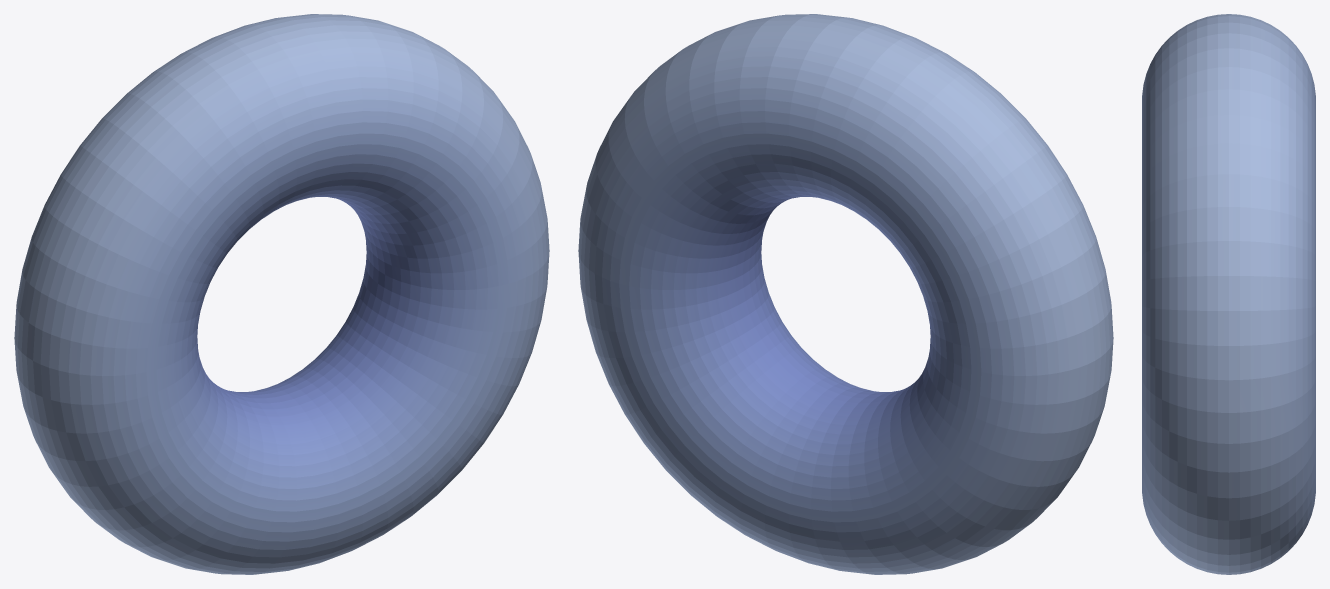
The picture shows the model from 3 angles, left to right: view 1: azimuth 30°, elevation 25°; view 2: azimuth 150°, elevation 25°; view 3: azimuth 270°, elevation 25°; orthographic projection. The views are drawn at different scales.
Parts seen in each view (by area): view 1: world; view 2: world; view 3: world.
Boxes of the visible parts, x1,y1,x2,y2 form: world: (14,14,549,574); world: (578,14,1113,574); world: (1142,14,1315,574).
Size of the model in its own units: 19.33 by 19.3 by 5.99.
